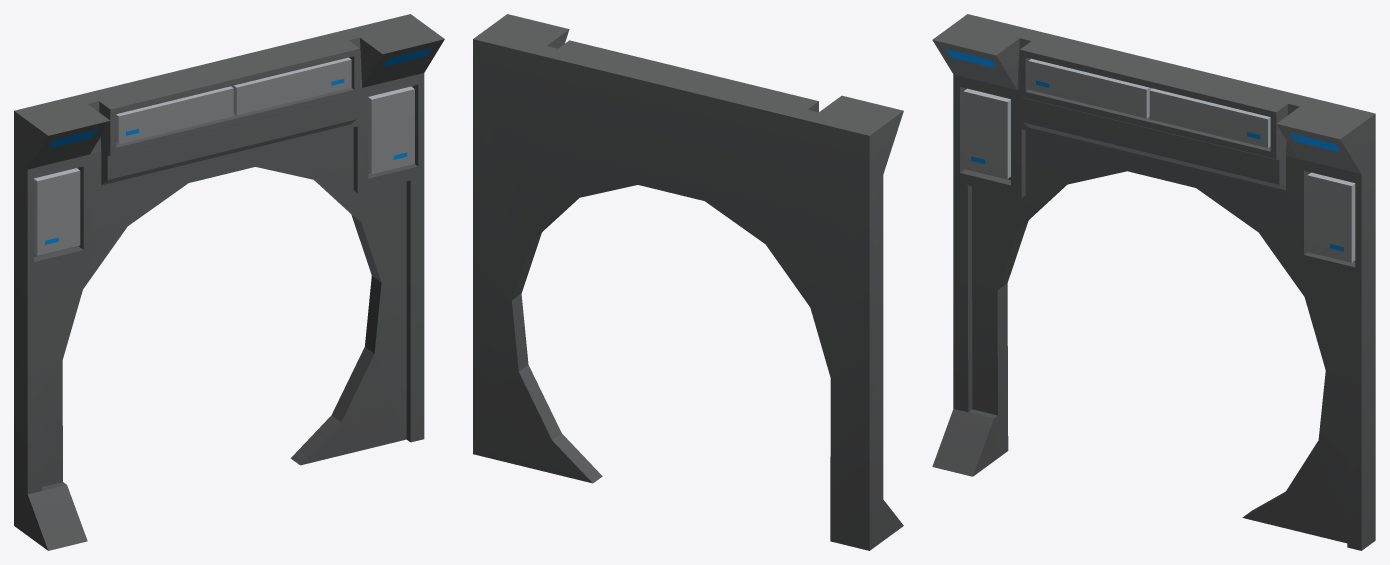
The model's file is Wall_type_B_067.fbx.
3 renders of one model, left to right at view 1: azimuth 30°, elevation 25°; view 2: azimuth 150°, elevation 25°; view 3: azimuth 330°, elevation 25°, orthographic. The views are drawn at different scales.
Parts seen in each view (by area): view 1: Wall_type_B_067; view 2: Wall_type_B_067; view 3: Wall_type_B_067.
Part boxes in pixels (x1,y1,x2,y2): Wall_type_B_067: (14, 14, 444, 550); Wall_type_B_067: (473, 14, 903, 550); Wall_type_B_067: (932, 14, 1375, 550).
Bounding box in the file's own units: 400 × 60 × 400.
